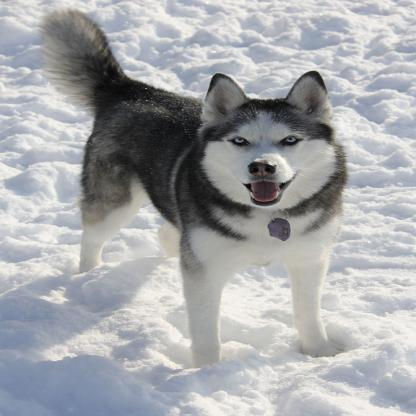dog: (44, 13, 344, 361)
